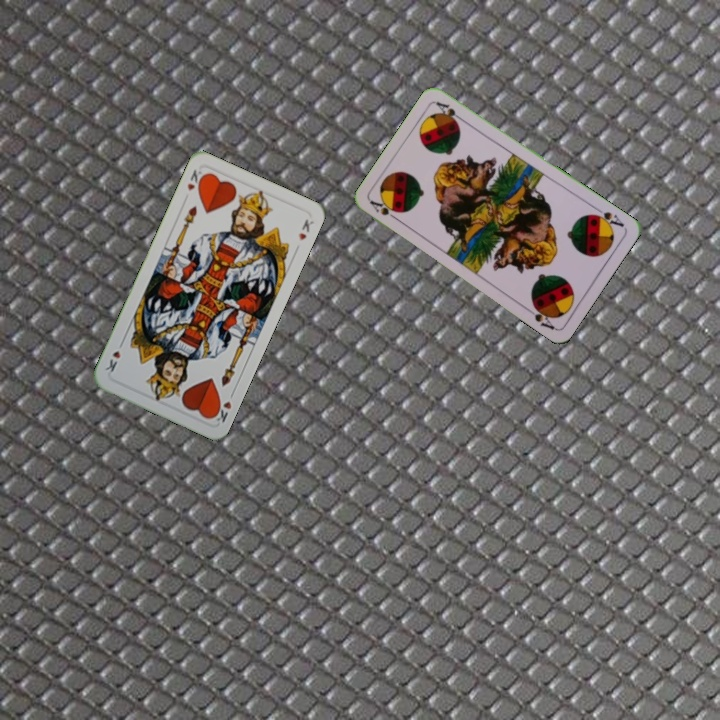HK: (208, 396, 234, 426), (183, 165, 208, 193)
SA: (587, 203, 627, 231), (366, 197, 403, 224)
